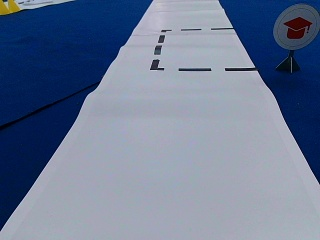school: (273, 4, 318, 49)
